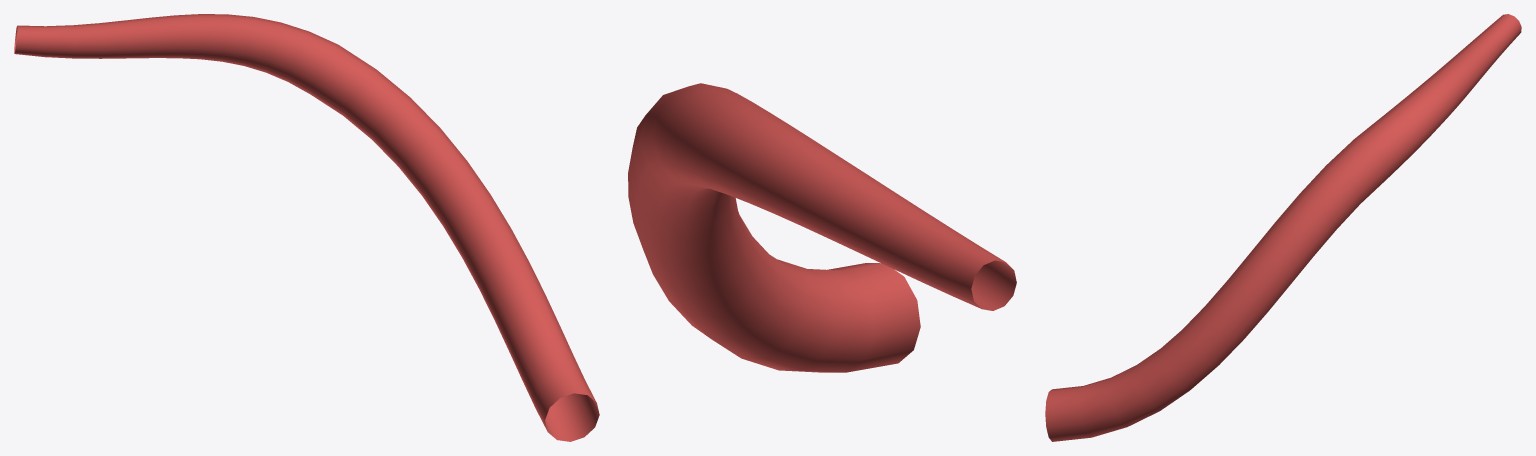
The picture shows the model from 3 angles, left to right: view 1: azimuth 30°, elevation 25°; view 2: azimuth 150°, elevation 25°; view 3: azimuth 270°, elevation 25°; orthographic projection. The views are drawn at different scales.
Visible parts, largest first — view 1: 左侧腓动脉跟支; view 2: 左侧腓动脉跟支; view 3: 左侧腓动脉跟支.
Boxes of the visible parts, x1,y1,x2,y2 form: 左侧腓动脉跟支: (14,14,599,441); 左侧腓动脉跟支: (628,83,1016,372); 左侧腓动脉跟支: (1045,14,1521,441).
Size of the model in its own units: 0.0126 by 0.0107 by 0.0159.
